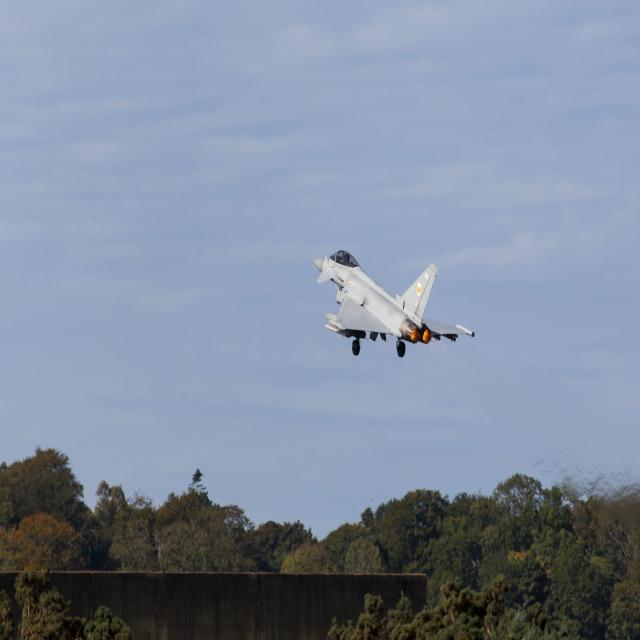MIL_Plane: (312, 250, 475, 358)
